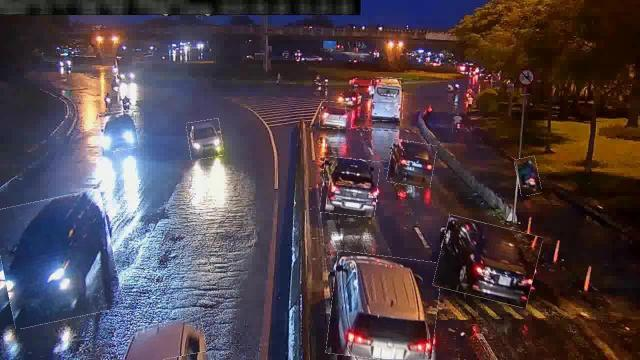Bike: (516, 156, 540, 195), (453, 112, 463, 132)
Bus: (371, 78, 404, 122)
Car: (0, 194, 120, 324), (328, 253, 439, 359), (436, 220, 540, 304), (114, 320, 206, 360), (321, 158, 379, 216), (388, 141, 436, 187), (100, 111, 138, 151), (187, 120, 223, 158), (320, 103, 352, 130)
